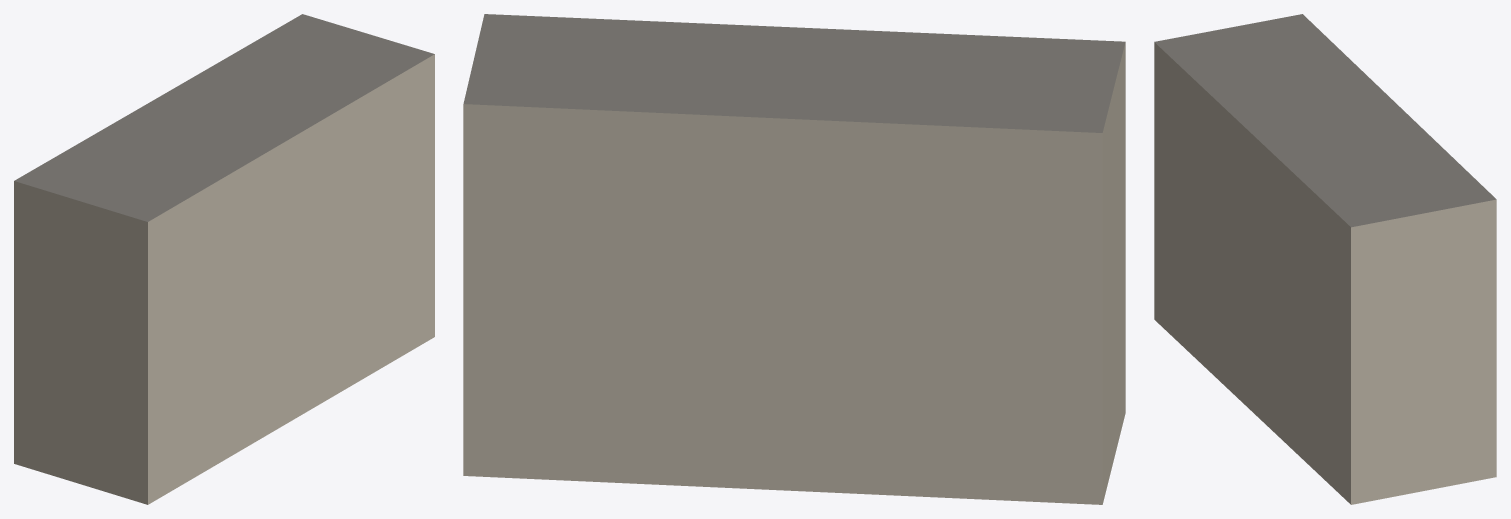
3 renders of one model, left to right at view 1: azimuth 30°, elevation 25°; view 2: azimuth 150°, elevation 25°; view 3: azimuth 270°, elevation 25°, orthographic. The views are drawn at different scales.
Parts seen in each view (by area): view 1: HP-w505633358; view 2: HP-w505633358; view 3: HP-w505633358.
Boxes of the visible parts, x1,y1,x2,y2 form: HP-w505633358: [14, 14, 434, 504]; HP-w505633358: [463, 14, 1125, 504]; HP-w505633358: [1154, 14, 1496, 504].
Bounding box in the file's own units: 29.67 × 18 × 20.13.
